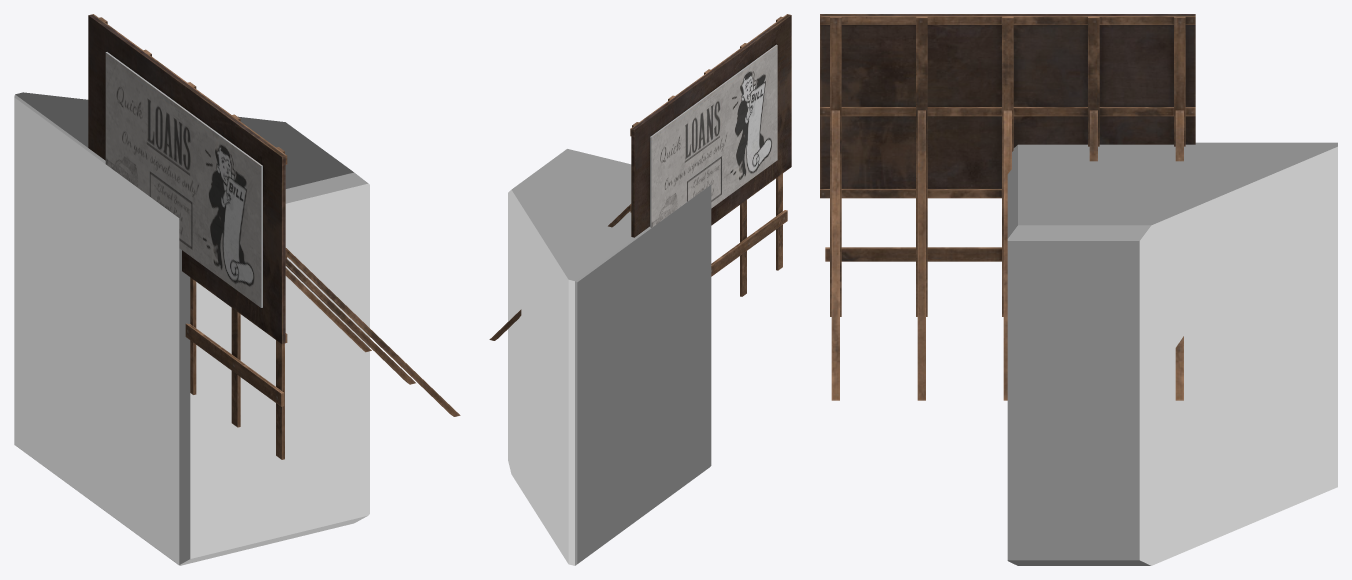
Rendered from SM_Billboard_11.fbx.
3 views of the same model, side by side, from view 1: azimuth 30°, elevation 25°; view 2: azimuth 150°, elevation 25°; view 3: azimuth 270°, elevation 25° (orthographic). The views are drawn at different scales.
Parts seen in each view (by area): view 1: SM_Billboard_11_ConvexHulls, SM_Billboard_11_LOD0; view 2: SM_Billboard_11_ConvexHulls, SM_Billboard_11_LOD0; view 3: SM_Billboard_11_ConvexHulls, SM_Billboard_11_LOD0.
Part boxes in pixels (x1=…): SM_Billboard_11_ConvexHulls: x1=14, y1=92, x2=369, y2=565; SM_Billboard_11_LOD0: x1=88, y1=14, x2=460, y2=459; SM_Billboard_11_ConvexHulls: x1=508, y1=149, x2=711, y2=565; SM_Billboard_11_LOD0: x1=489, y1=14, x2=791, y2=340; SM_Billboard_11_ConvexHulls: x1=1007, y1=142, x2=1337, y2=565; SM_Billboard_11_LOD0: x1=820, y1=14, x2=1195, y2=400.
Bounding box in the file's own units: 297 × 735 × 735.
